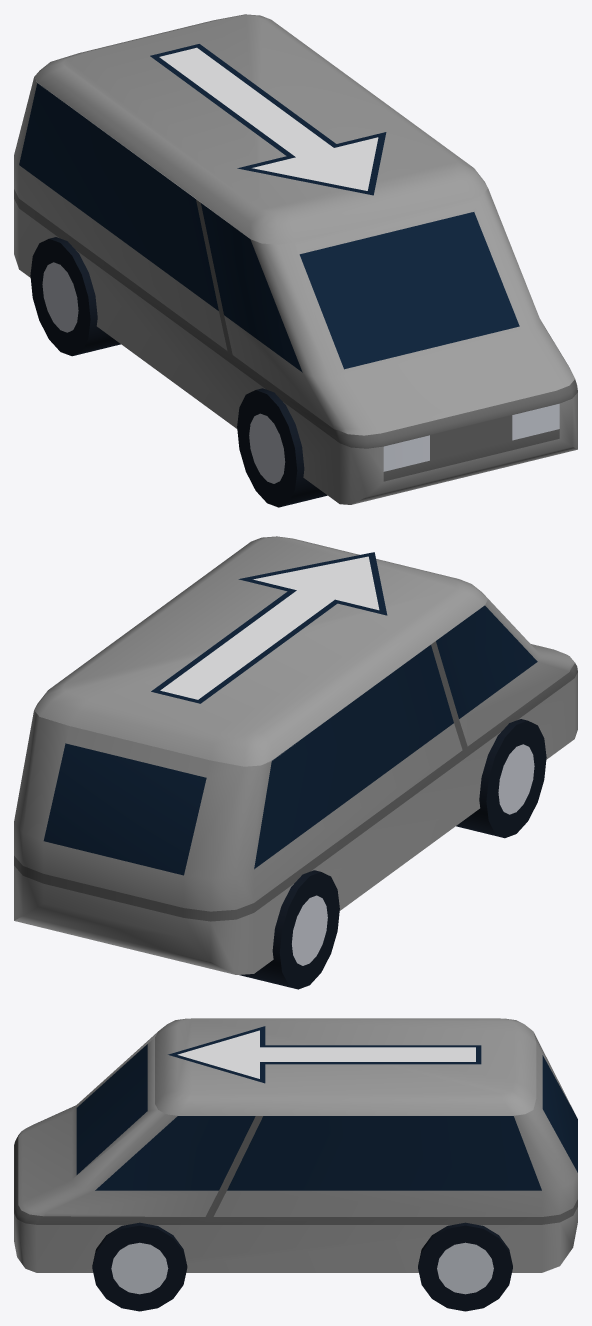
Rendered from SmallBus.fbx.
3 renders of one model, top to bottom at view 1: azimuth 30°, elevation 25°; view 2: azimuth 150°, elevation 25°; view 3: azimuth 270°, elevation 25°, orthographic. The views are drawn at different scales.
Parts seen in each view (by area): view 1: Bus, Roof; view 2: Bus, Roof; view 3: Bus, Roof.
Part boxes in pixels (x1,y1,x2,y2): Bus: [14, 77, 577, 507]; Roof: [34, 14, 487, 244]; Bus: [14, 595, 577, 989]; Roof: [34, 536, 487, 766]; Bus: [14, 1032, 577, 1311]; Roof: [155, 1018, 536, 1115].
Bounding box in the file's own units: 0.8077 × 0.8178 × 2.01.
